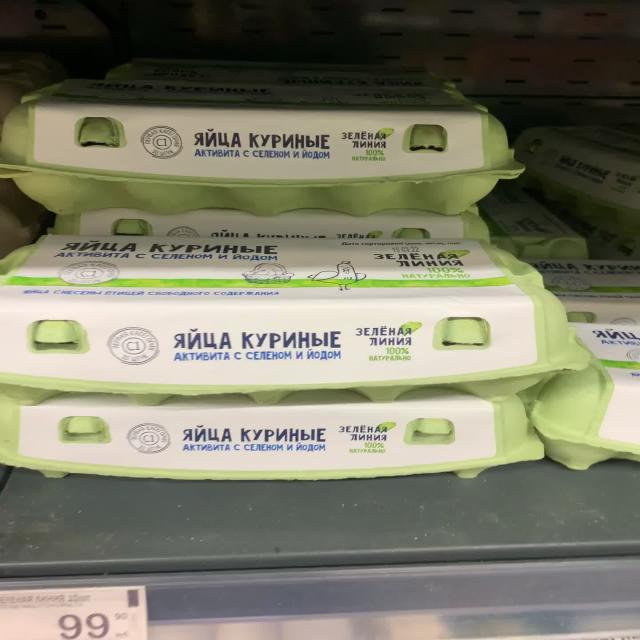egg box: (7, 221, 584, 400), (6, 62, 528, 216), (2, 384, 549, 492)
